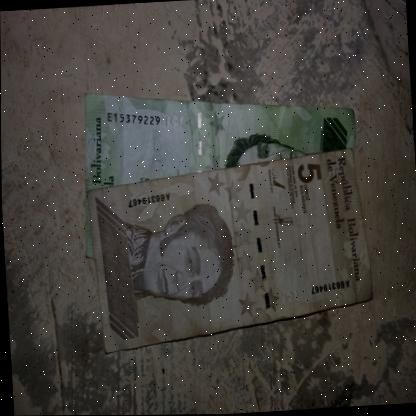vef_front: (73, 76, 361, 258)
